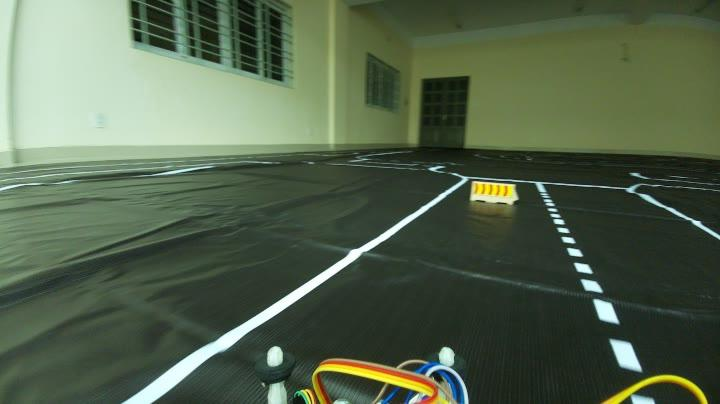roadblock: (468, 174, 517, 214)
